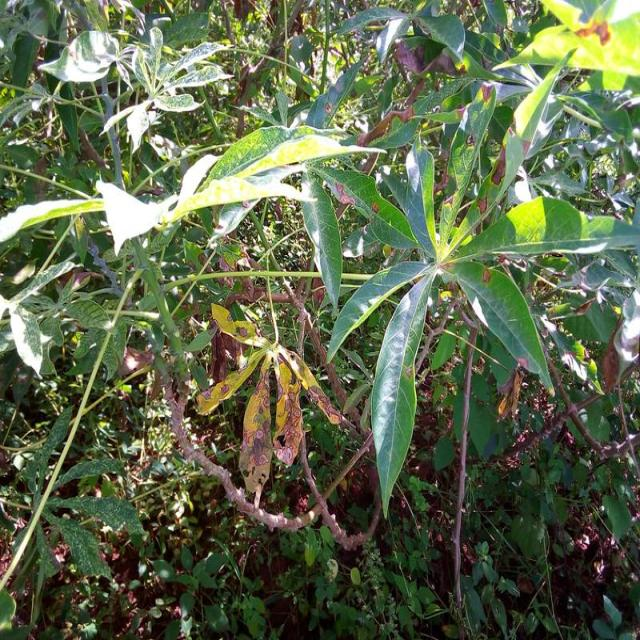cassava leaf: (165, 122, 386, 228), (370, 266, 435, 520)
